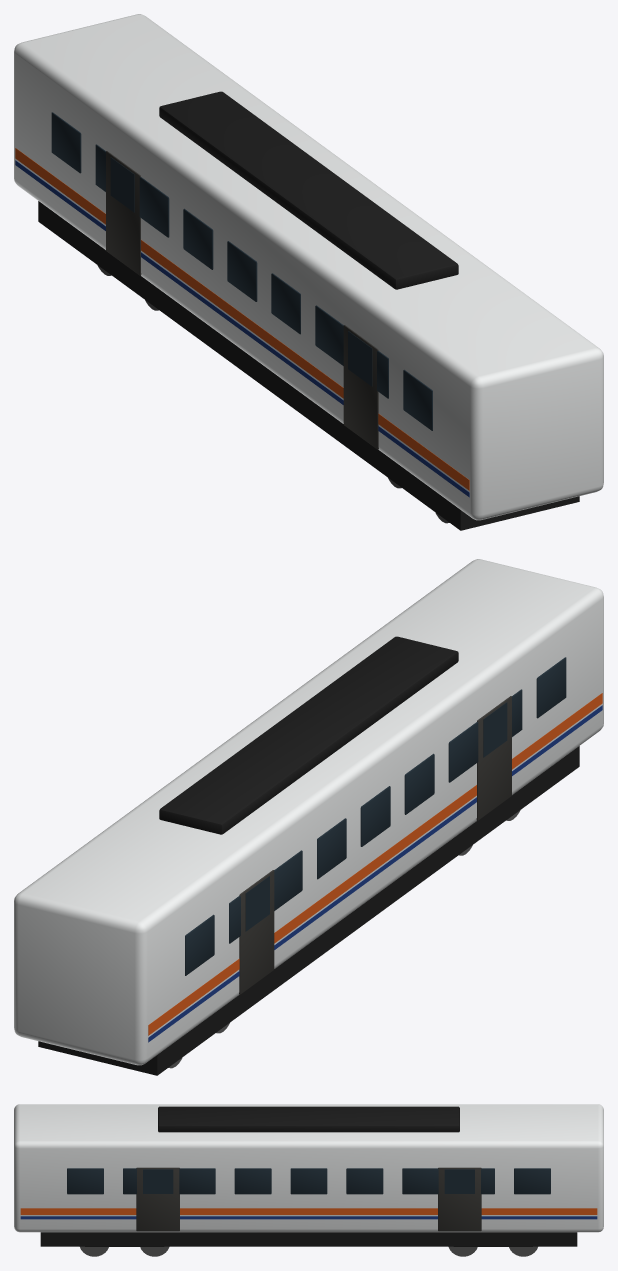
The model's file is Train_Coach.fbx.
3 views of the same model, one above another, from view 1: azimuth 30°, elevation 25°; view 2: azimuth 150°, elevation 25°; view 3: azimuth 270°, elevation 25° (orthographic). The views are drawn at different scales.
Visible parts, largest first — view 1: Train_Coach_Mesh; view 2: Train_Coach_Mesh; view 3: Train_Coach_Mesh.
Boxes of the visible parts, x1,y1,x2,y2 form: Train_Coach_Mesh: (14,14,603,530); Train_Coach_Mesh: (14,559,603,1075); Train_Coach_Mesh: (14,1104,603,1256).
Size of the model in its own units: 2.97 by 4.28 by 17.6.
